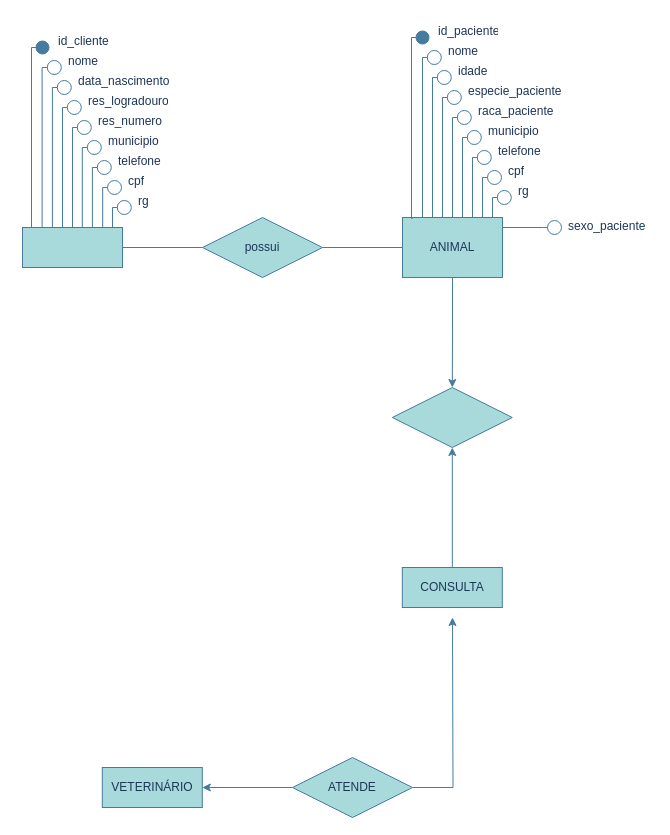
Some shapes in this 670 by 835 pixel diagram are drawn without their labels. Here are the shapes that lost their labels. From the top down, the centre of each, then its label:
(72,247): CLIENTE
(451,417): tem
